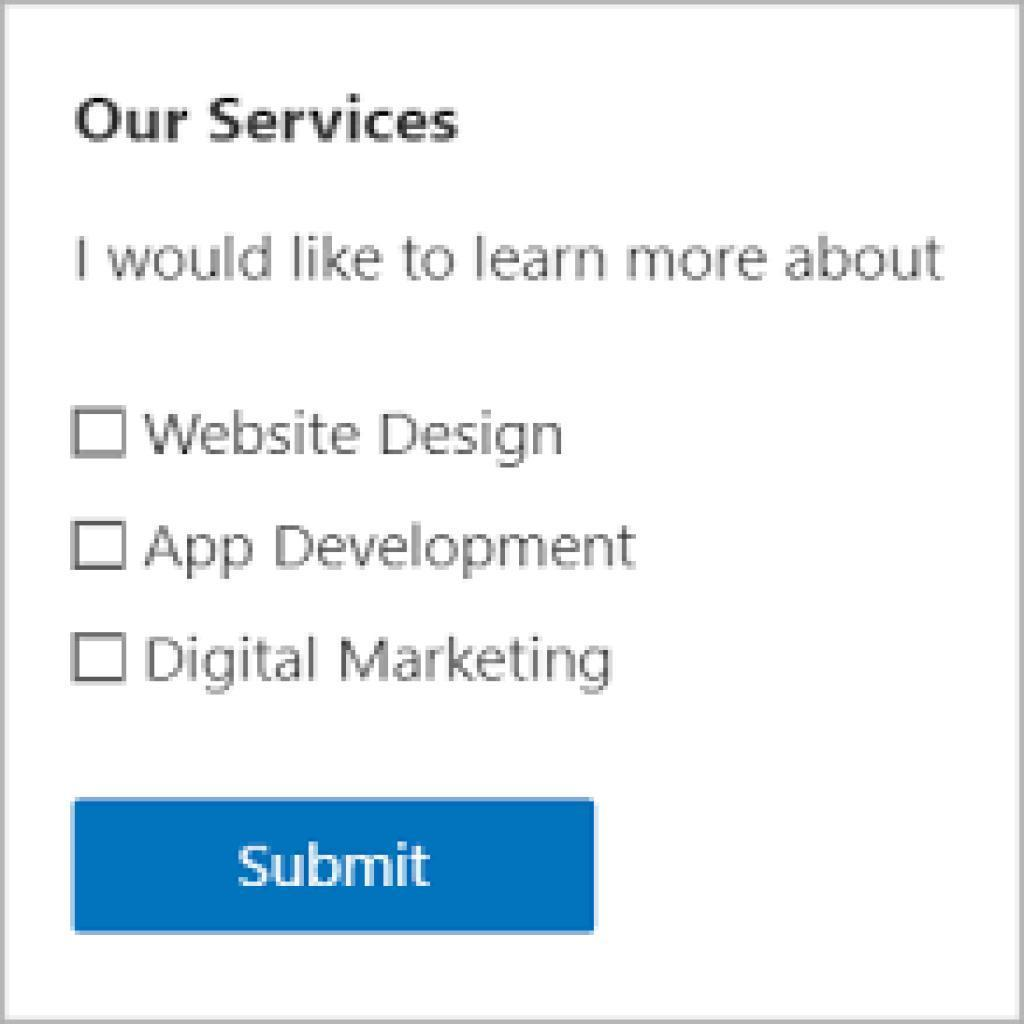button: (73, 800, 599, 935)
checkbox: (71, 520, 128, 569), (73, 631, 126, 682), (73, 410, 125, 457)
